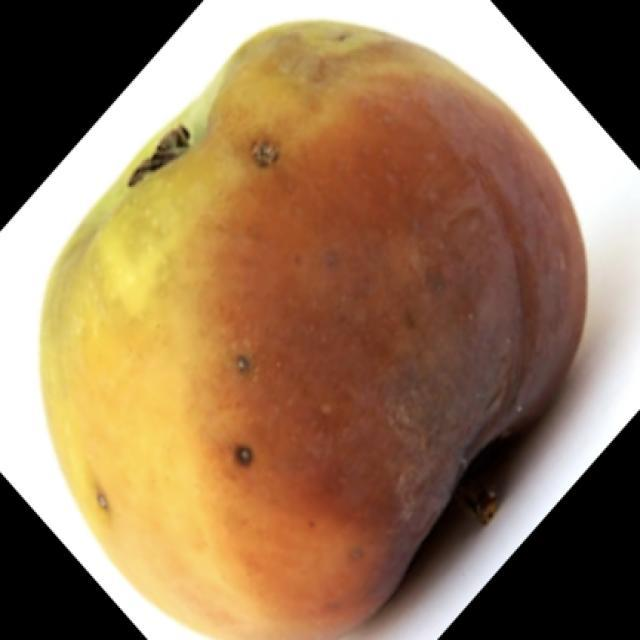Rotten: (63, 15, 570, 627)
